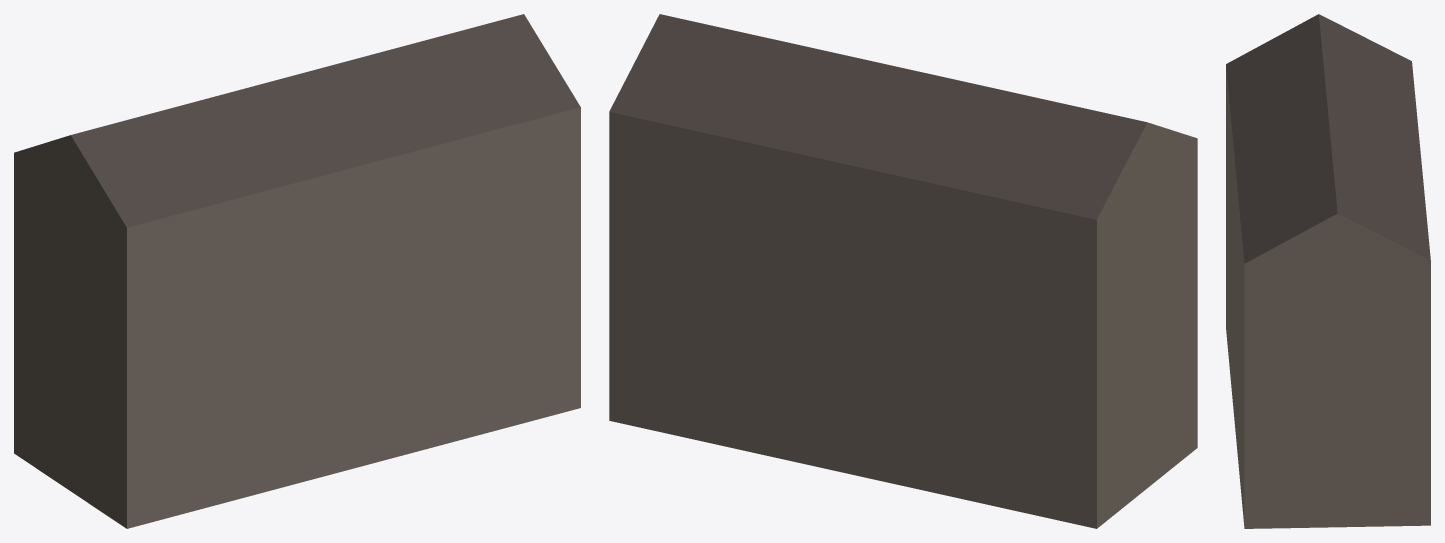
3 renders of one model, left to right at view 1: azimuth 30°, elevation 25°; view 2: azimuth 150°, elevation 25°; view 3: azimuth 270°, elevation 25°, orthographic. The views are drawn at different scales.
Visible parts, largest first — view 1: HP-w1424106421; view 2: HP-w1424106421; view 3: HP-w1424106421.
Boxes of the visible parts, x1,y1,x2,y2 form: HP-w1424106421: [14, 14, 580, 528]; HP-w1424106421: [609, 14, 1197, 528]; HP-w1424106421: [1226, 14, 1430, 528].
Bounding box in the file's own units: 9.84 × 7.11 × 4.2.
